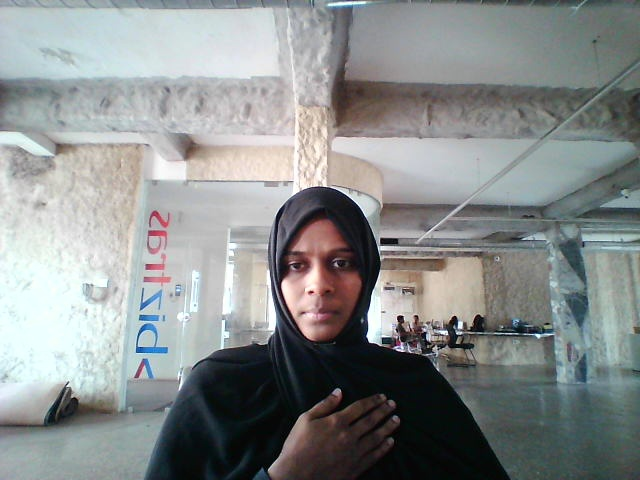PLEASE: (235, 374, 406, 480)
